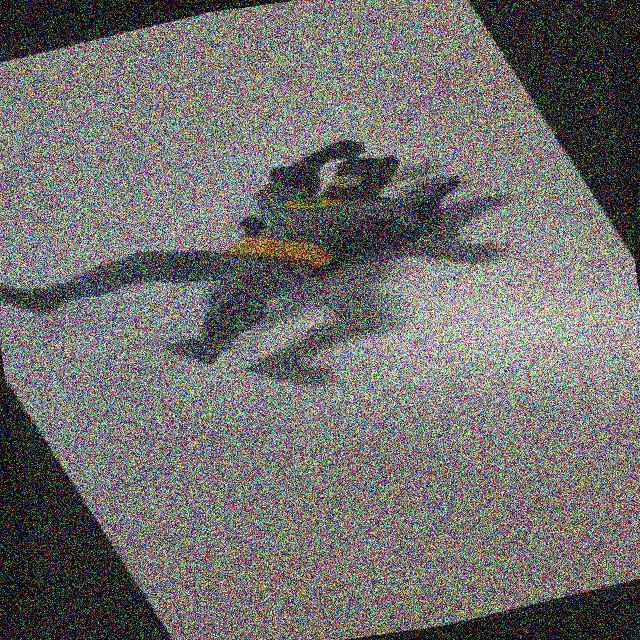Batman: (0, 111, 529, 407)
